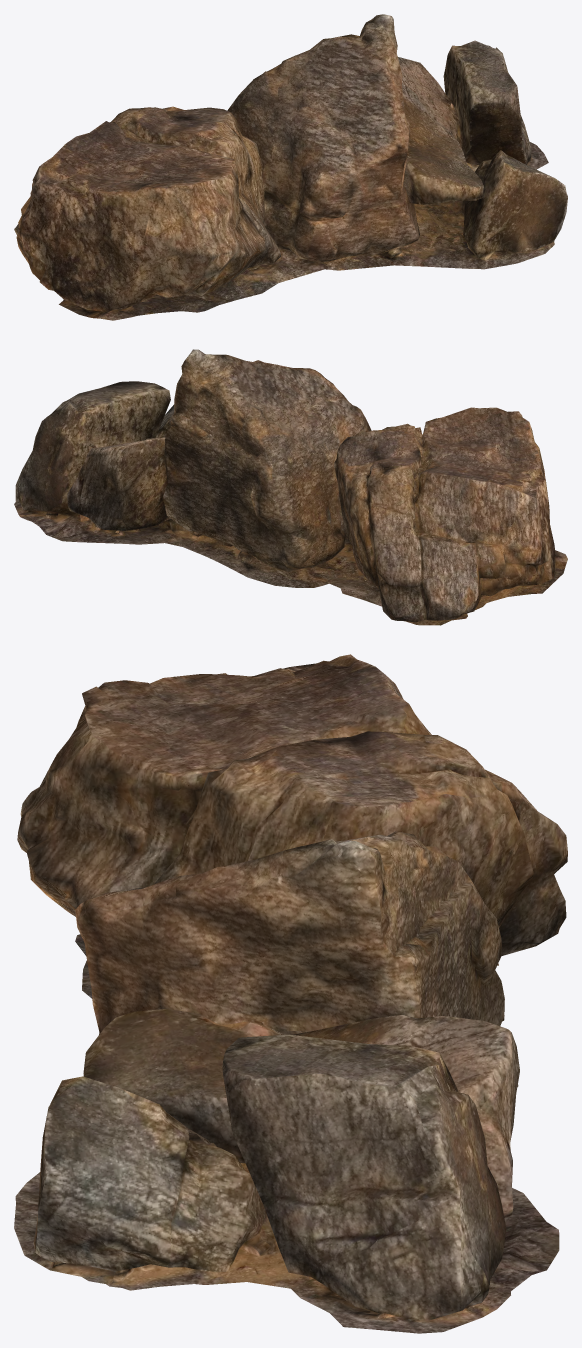
File: namaqualand_boulder_02.glb
The picture shows the model from 3 angles, top to bottom: view 1: azimuth 30°, elevation 25°; view 2: azimuth 150°, elevation 25°; view 3: azimuth 270°, elevation 25°; orthographic projection. The views are drawn at different scales.
Visible parts, largest first — view 1: boulder_02; view 2: boulder_02; view 3: boulder_02.
Part boxes in pixels (x1=…): boulder_02: x1=14, y1=14, x2=567, y2=320; boulder_02: x1=14, y1=349, x2=567, y2=625; boulder_02: x1=14, y1=654, x2=567, y2=1333.
Bounding box in the file's own units: 2.52 × 0.8802 × 1.23.
1 material, 1 textured.
